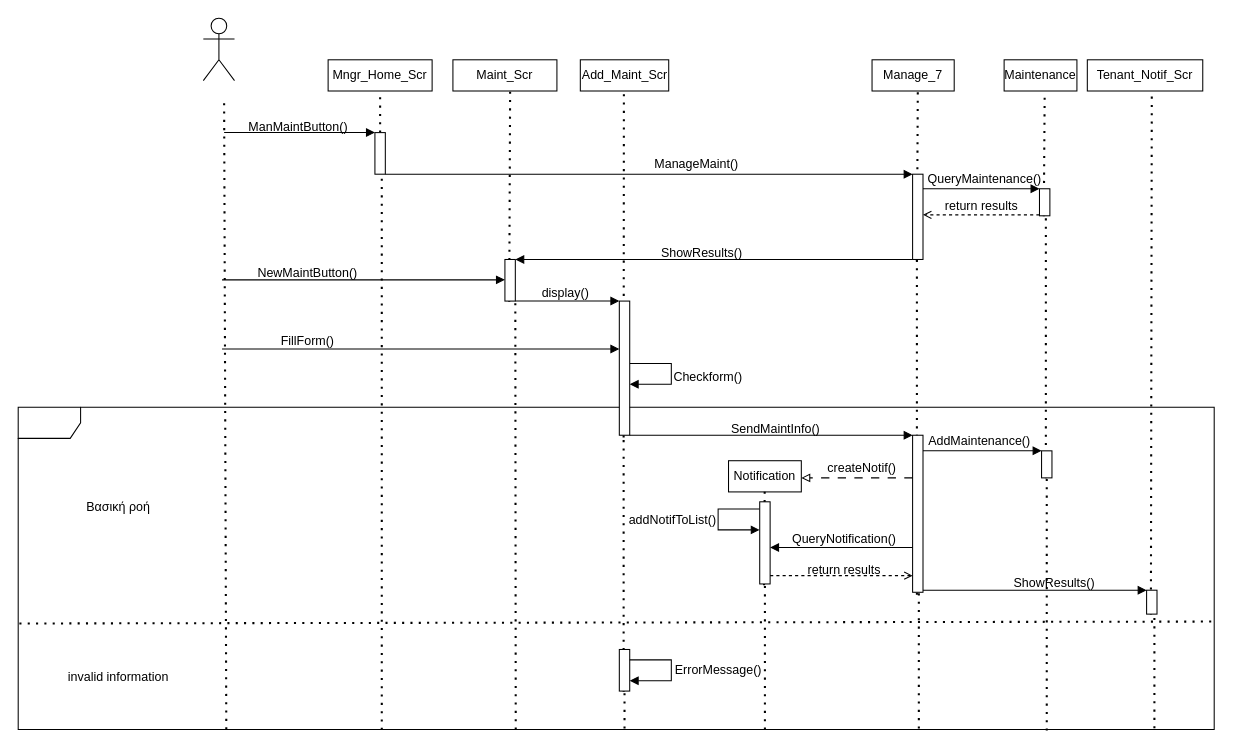
Image size: 1236x751. Some labels were removed from this diagram. Each missing label, with the box of its shape:
alternative: (17, 406, 1214, 730)
Manager: (202, 17, 235, 81)
